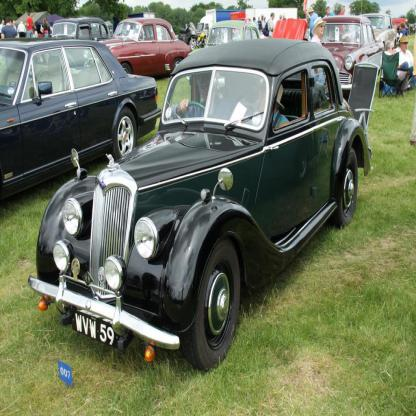Car: (0, 11, 407, 371)
